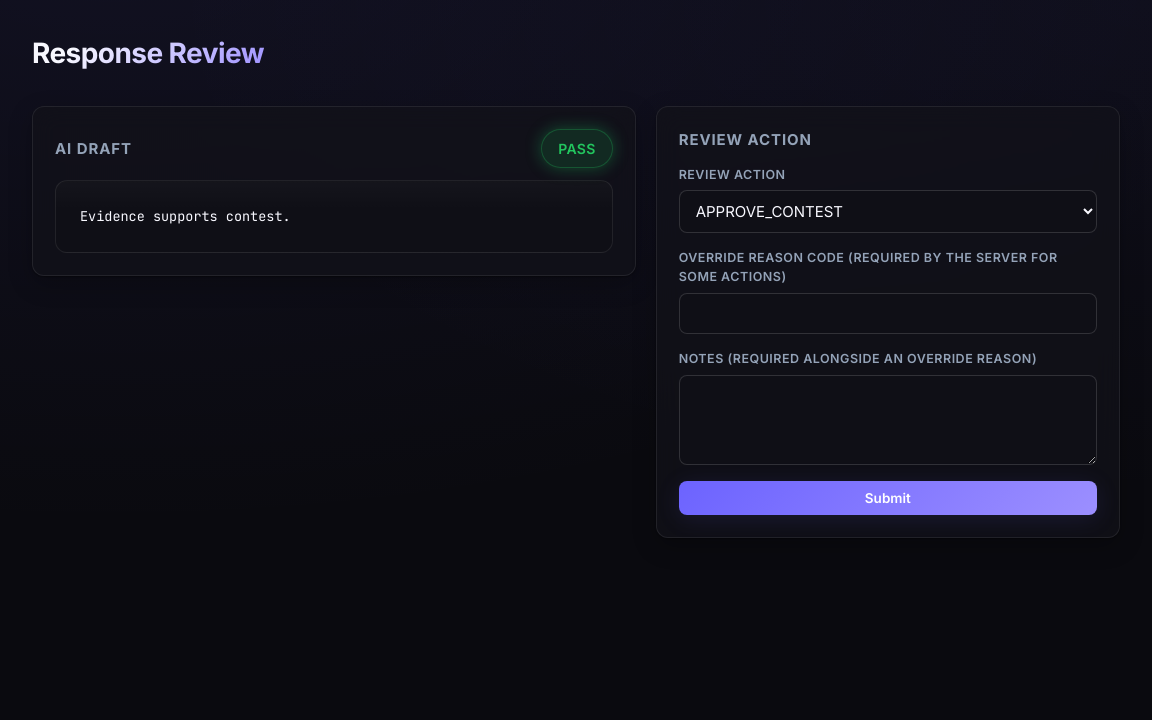
Scenario: ResponseReview › shows a distinct escalated state on ESCALATED_CANCELLED
Check: the text "Evidence supports contest." is shown, box [55,180,613,253]
What coordinates should you click on to do the following:
click the button "Submit"
I would click on:
 (888, 498)
Its box is [679,480,1097,514].
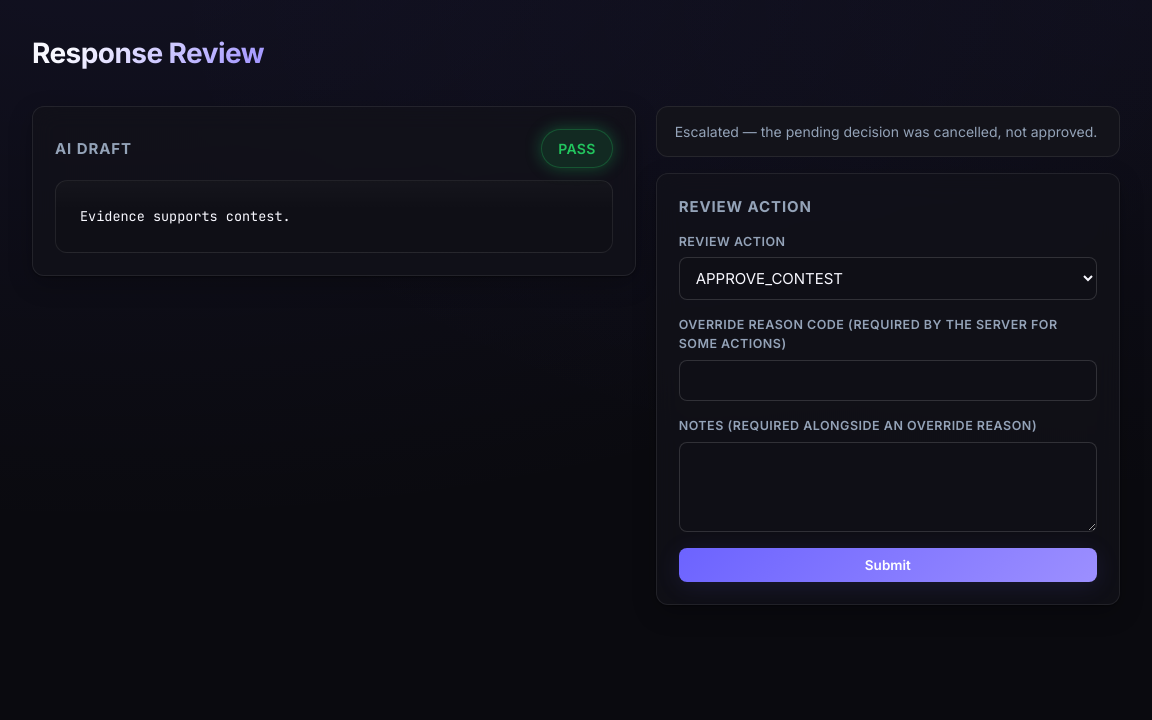
Check: the text "Escalated — the pending decision was cancelled, not approved." is shown, box [656,106,1120,157]
